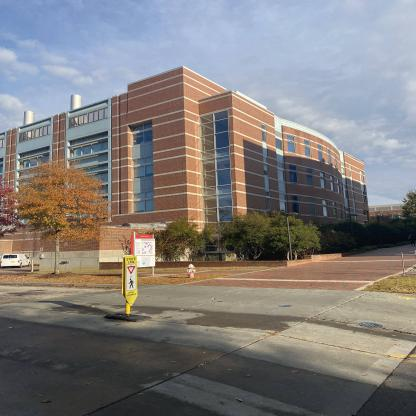EB-1: (10, 68, 384, 253)
